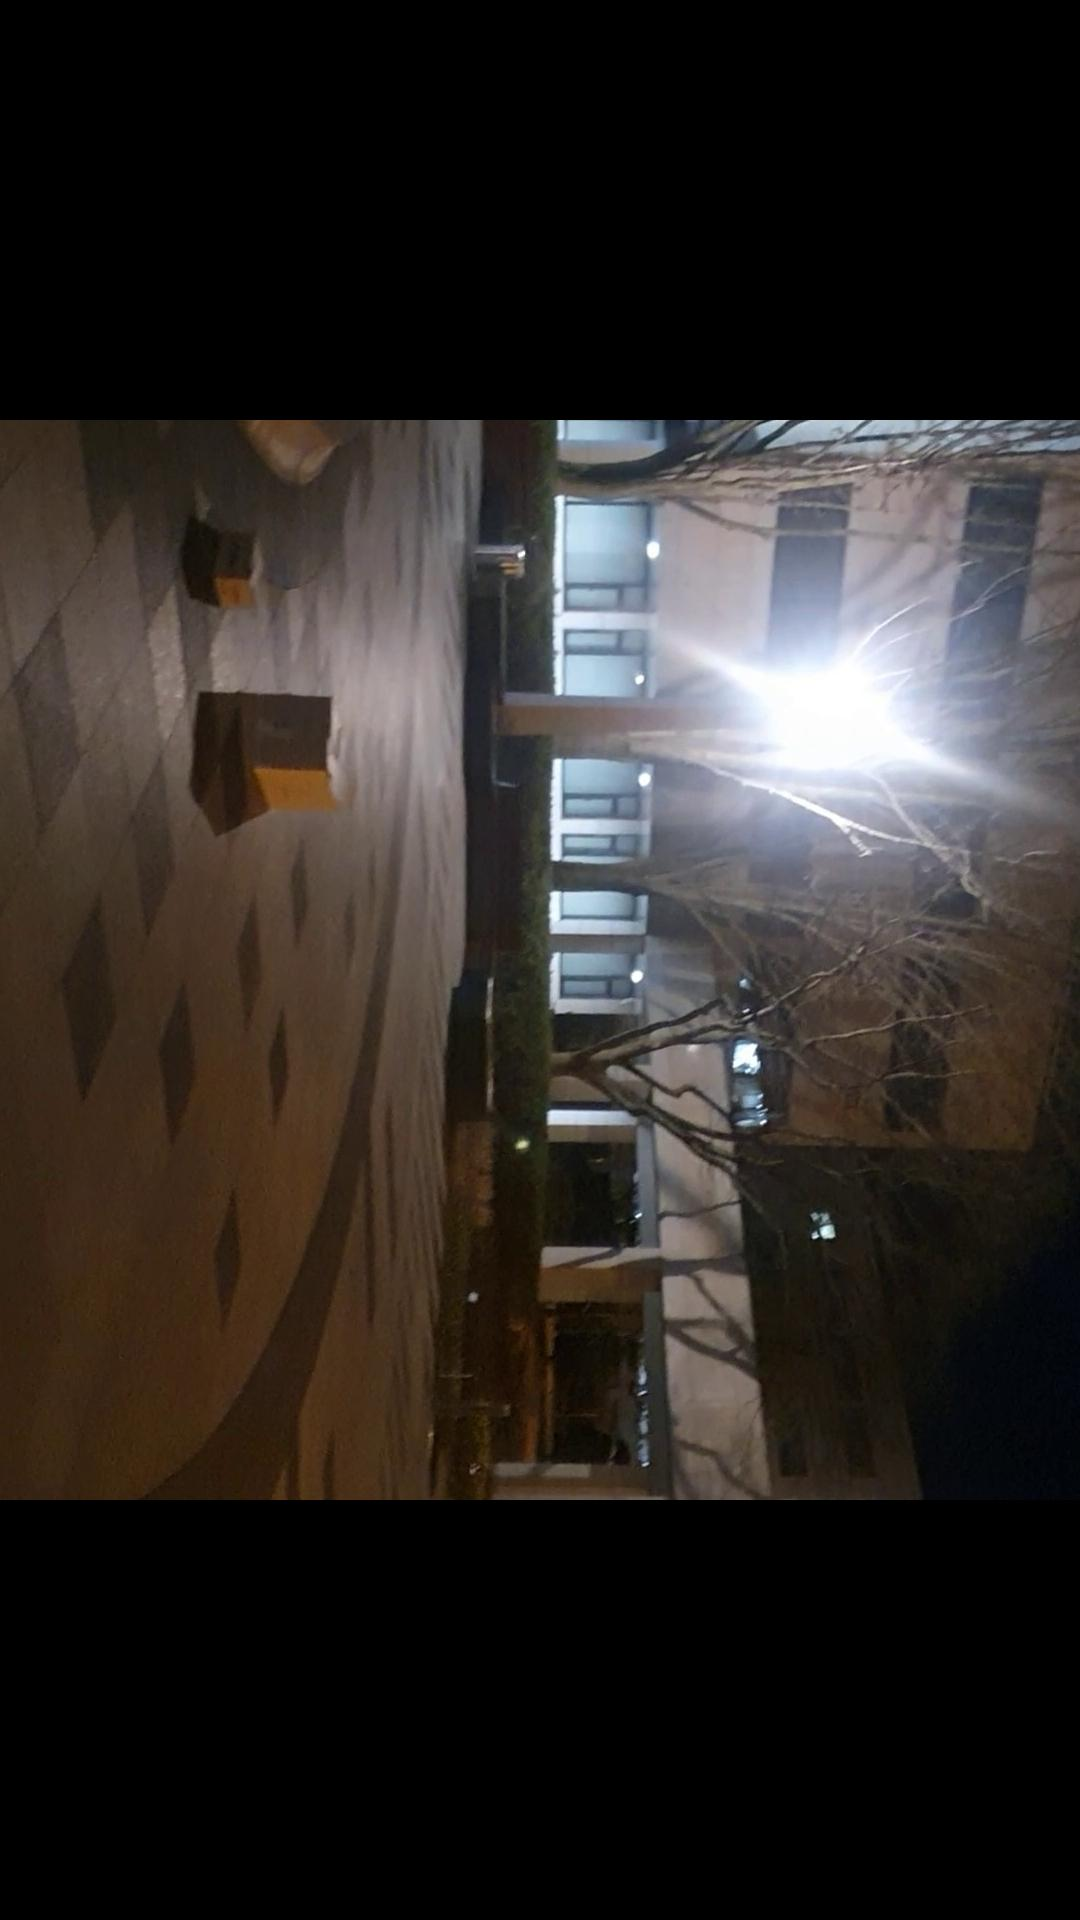Box: (227, 686, 357, 825), (198, 527, 265, 617)
